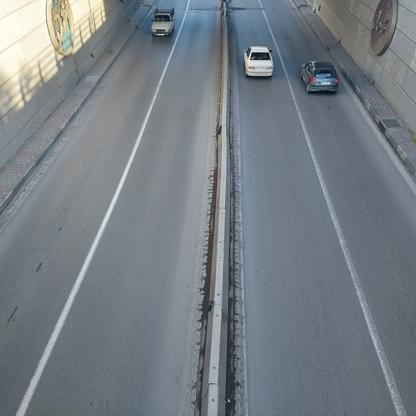Car: (297, 60, 337, 97), (248, 49, 276, 82), (154, 8, 172, 38)
